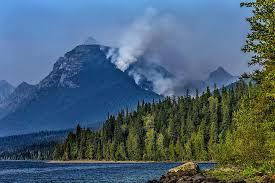smoke: (131, 23, 179, 56)
